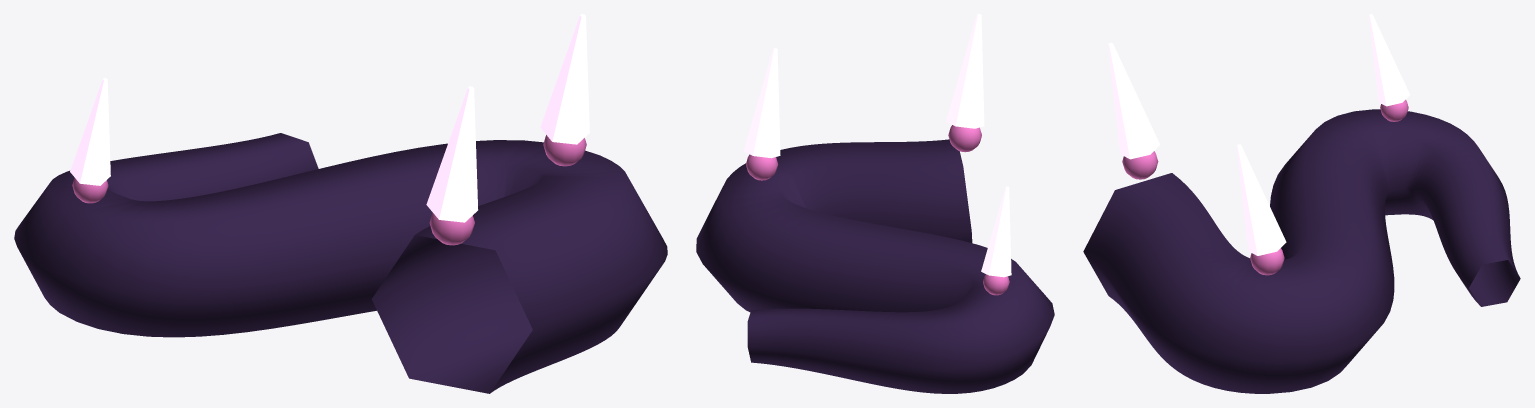
The model's file is SM_Keeper_Apep_Body_F05.fbx.
3 renders of one model, left to right at view 1: azimuth 30°, elevation 25°; view 2: azimuth 150°, elevation 25°; view 3: azimuth 270°, elevation 25°, orthographic. The views are drawn at different scales.
Visible parts, largest first — view 1: SM_Keeper_Apep_Body_F05; view 2: SM_Keeper_Apep_Body_F05; view 3: SM_Keeper_Apep_Body_F05.
Boxes of the visible parts, x1=… form: SM_Keeper_Apep_Body_F05: x1=14, y1=14, x2=667, y2=393; SM_Keeper_Apep_Body_F05: x1=696, y1=14, x2=1054, y2=393; SM_Keeper_Apep_Body_F05: x1=1083, y1=14, x2=1520, y2=393.
Size of the model in its own units: 7.2 by 4.37 by 6.54.
